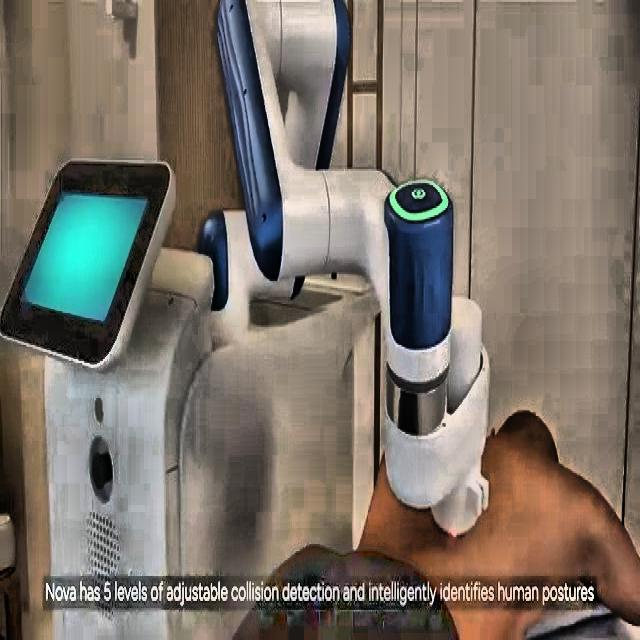robot: (0, 0, 492, 638), (206, 0, 492, 537)
